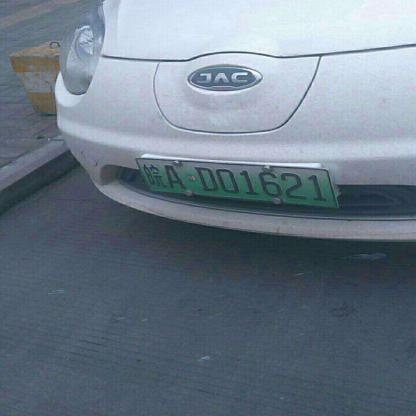lp: (132, 156, 337, 206)
